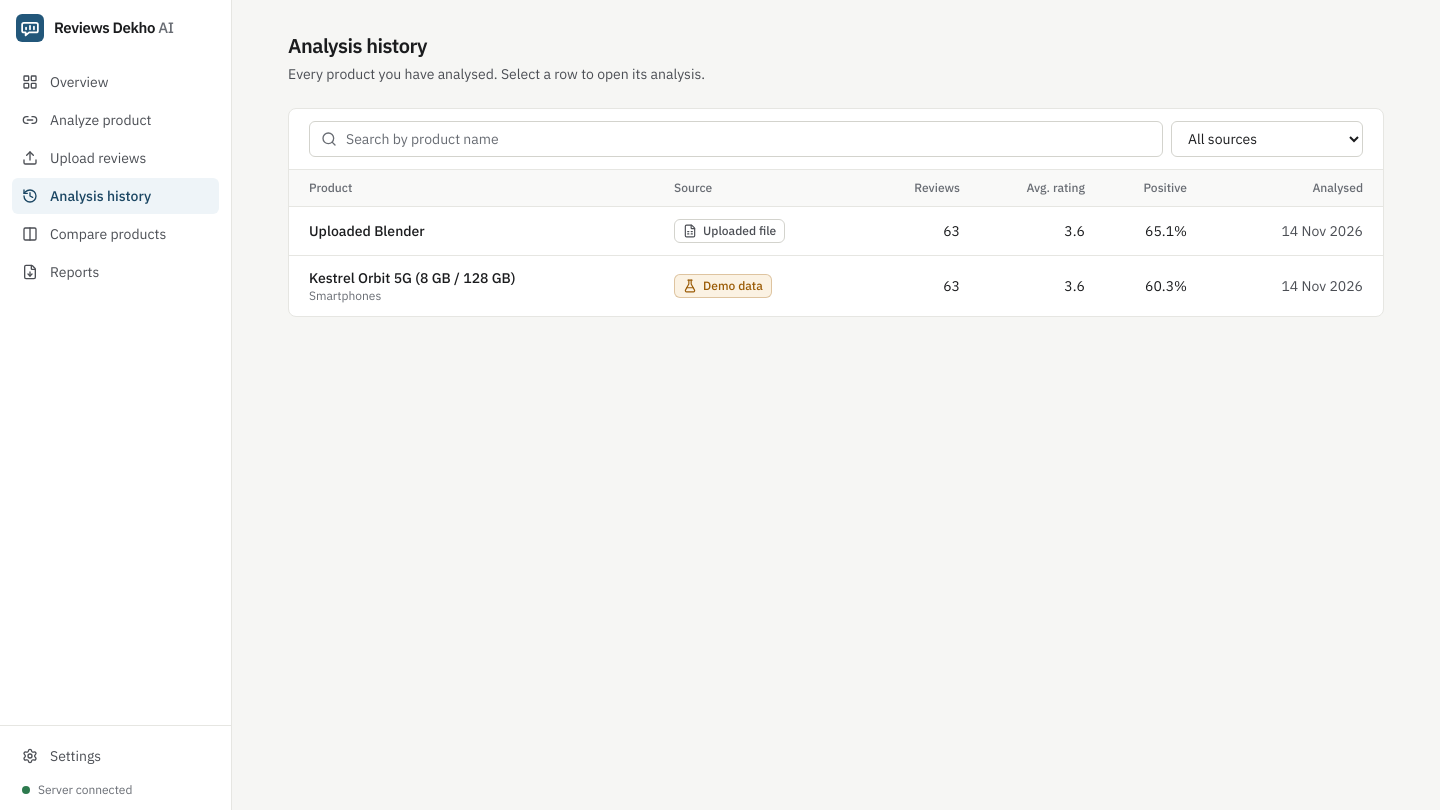
Test: with the backend running › history lists stored products next to the demo product
This screenshot has width=1440, height=810.
Check: the link "Uploaded Blender" is shown, box [309,222,425,240]
Check: the link "Kestrel Orbit 5G (8 GB / 128 GB)" is shown, box [309,269,516,287]
Select "Uploaded files" in the dropdown named "Filter by source" at (1267, 139), box [1171,121,1363,157]
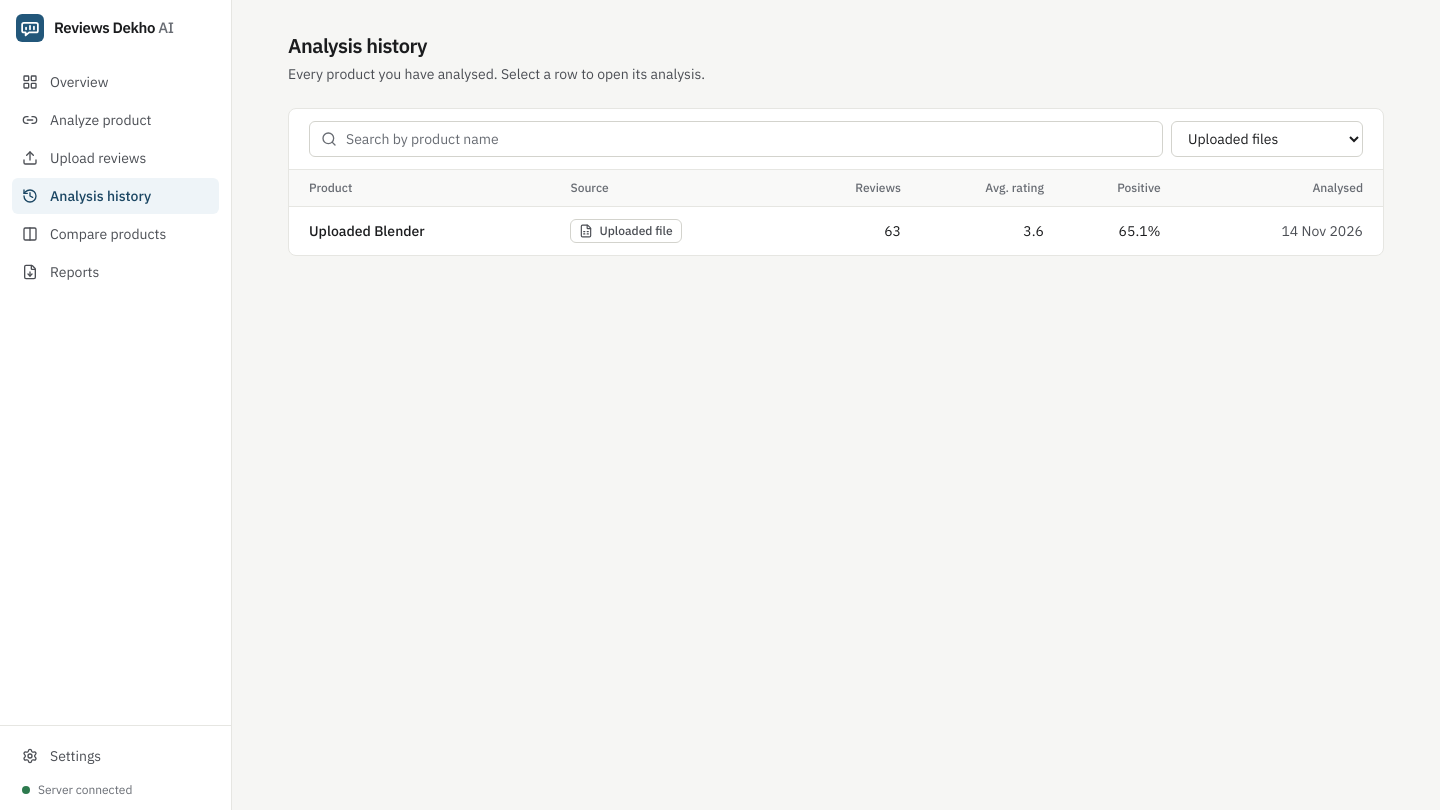
Check: the link "Kestrel Orbit 5G (8 GB / 128 GB)" is gone
